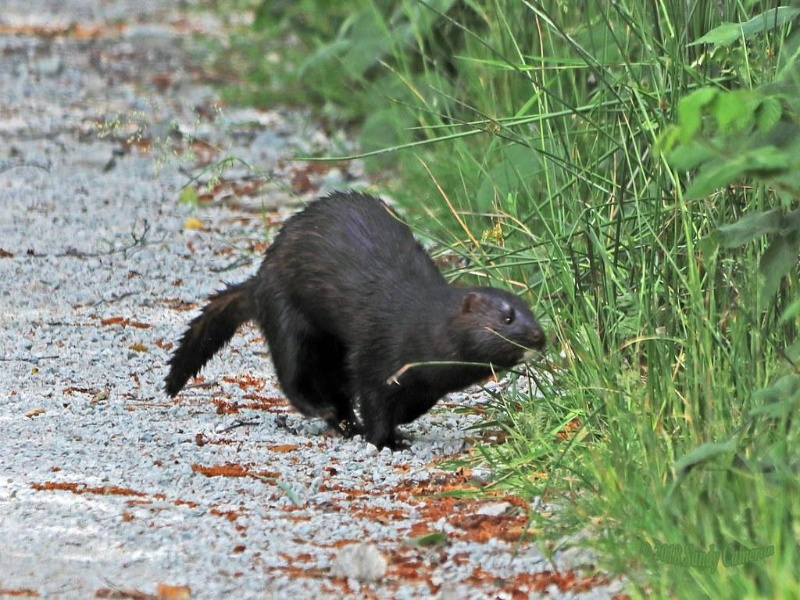minkish: (160, 188, 550, 451)
